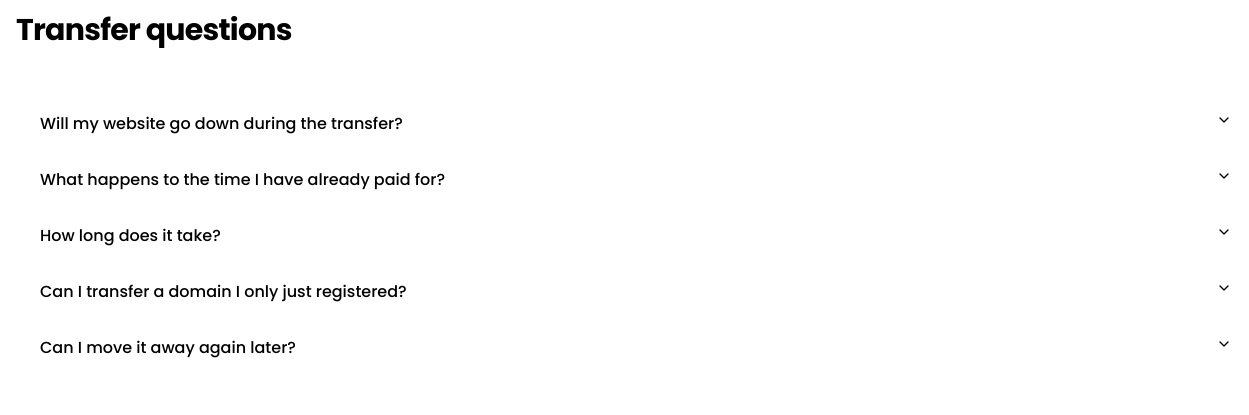
it: TransferFaq › promises the auth code is never held over a bill (N14)
Click the button "Can I move it away again later?".
click(168, 348)  # box [40,320,1232,376]
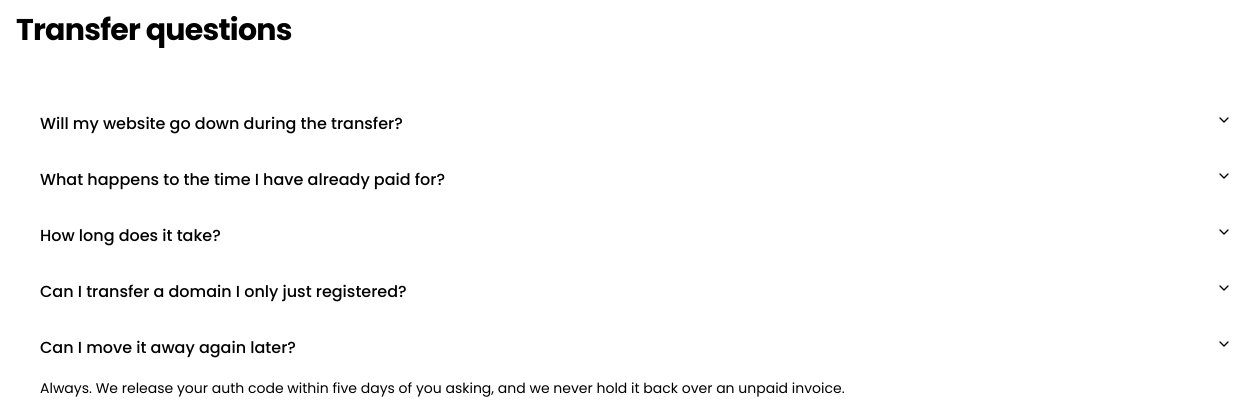
expect the text "never hold it back over an unpaid invoice" is shown: met, box [40,378,845,398]
